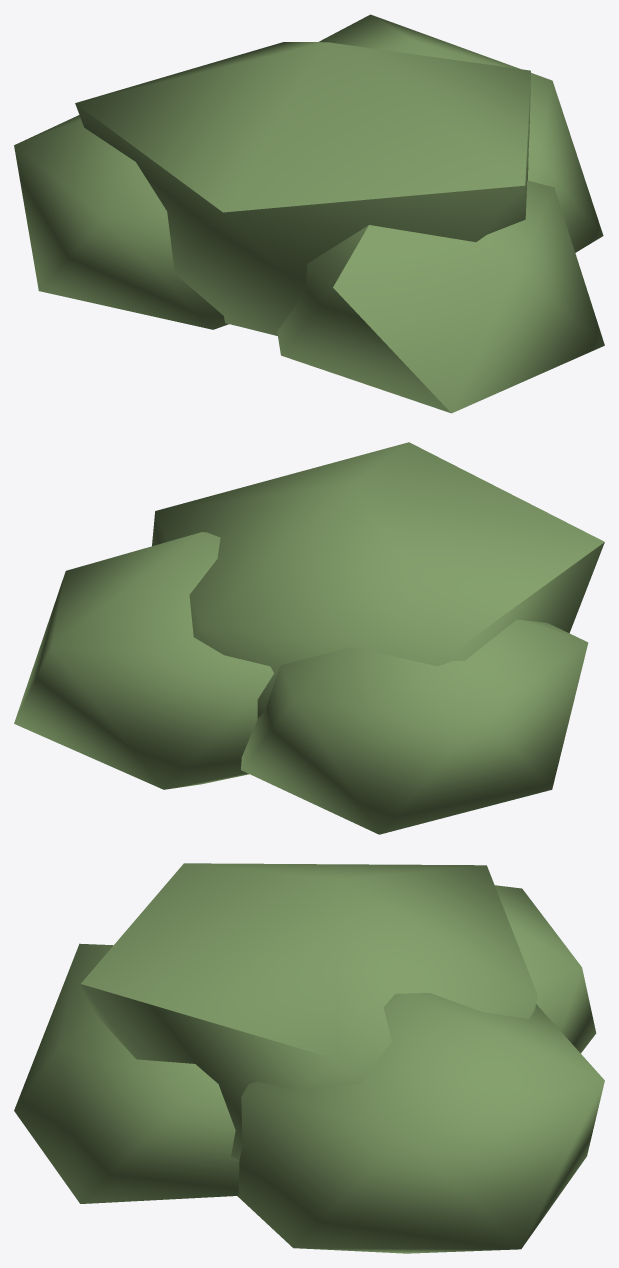
Rendered from bush.glb.
3 views of the same model, one above another, from view 1: azimuth 30°, elevation 25°; view 2: azimuth 150°, elevation 25°; view 3: azimuth 270°, elevation 25° (orthographic). The views are drawn at different scales.
Parts seen in each view (by area): view 1: Bush0, Bush3, Bush2, Bush1; view 2: Bush0, Bush2, Bush1; view 3: Bush0, Bush1, Bush3, Bush2.
Boxes of the visible parts, left/top/right/bottom form: Bush0: left=75, top=42, right=530, bottom=335; Bush3: left=277, top=180, right=604, bottom=413; Bush2: left=14, top=115, right=228, bottom=329; Bush1: left=319, top=14, right=603, bottom=252; Bush0: left=152, top=442, right=604, bottom=718; Bush2: left=241, top=619, right=588, bottom=834; Bush1: left=14, top=532, right=274, bottom=789; Bush0: left=81, top=863, right=537, bottom=1159; Bush1: left=237, top=993, right=604, bottom=1253; Bush3: left=14, top=943, right=239, bottom=1203; Bush2: left=495, top=885, right=596, bottom=1053.
Size of the model in its own units: 1.67 by 0.9837 by 1.68.
